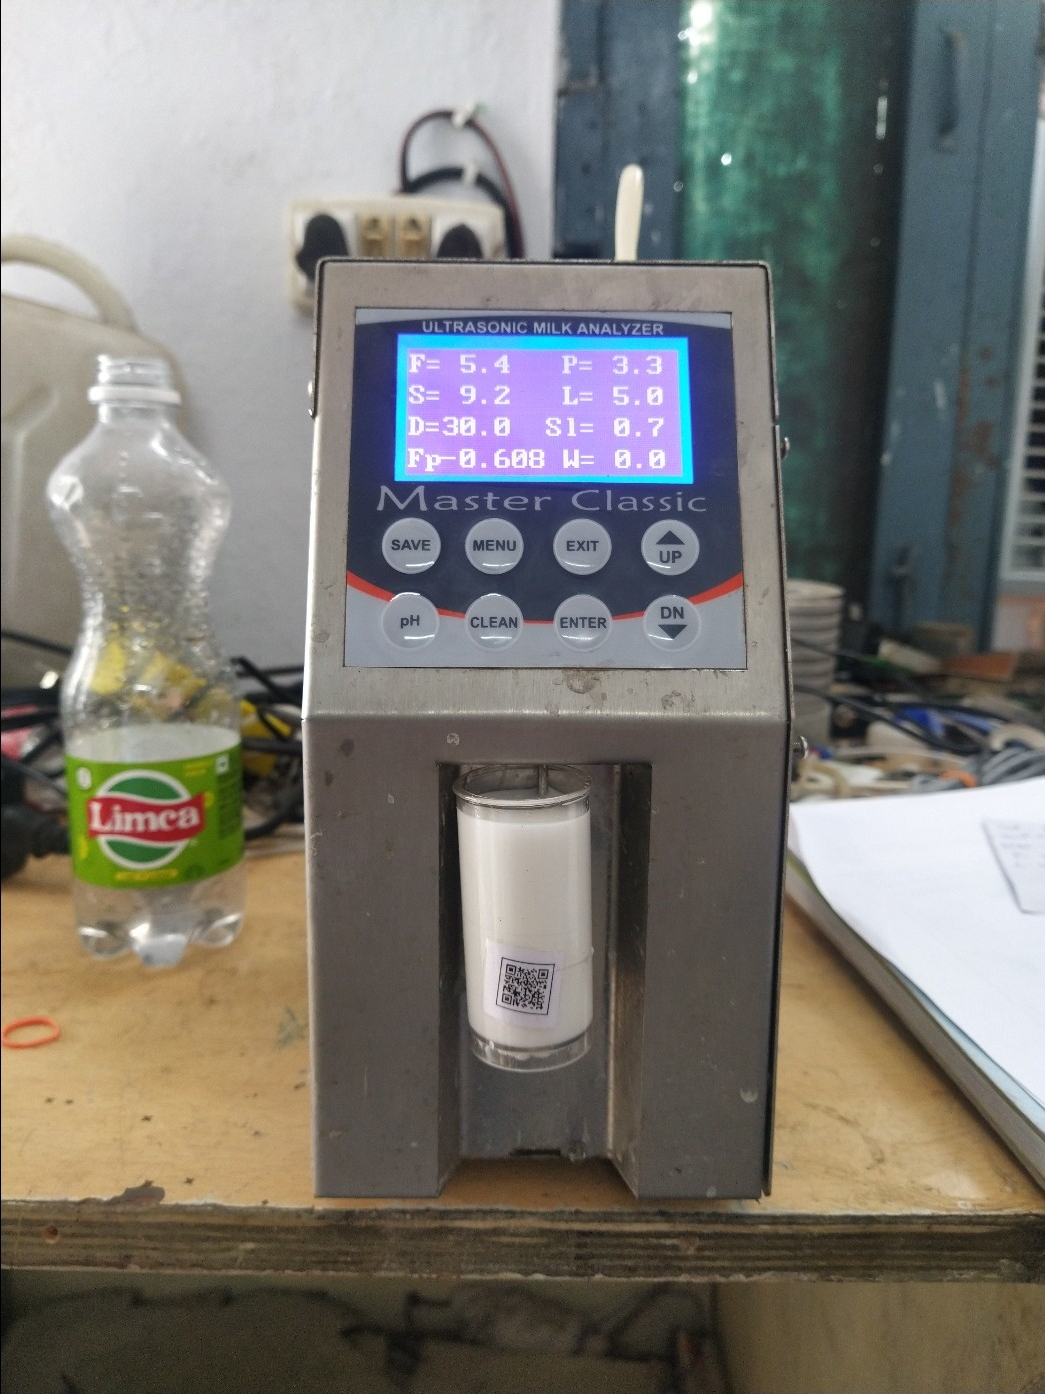lcd: (370, 324, 724, 501)
qr: (485, 949, 566, 1015)
